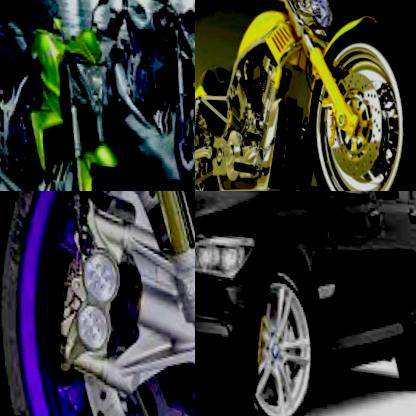bike: (0, 191, 195, 416), (195, 0, 416, 191), (81, 0, 195, 190)
car: (195, 191, 416, 416)
